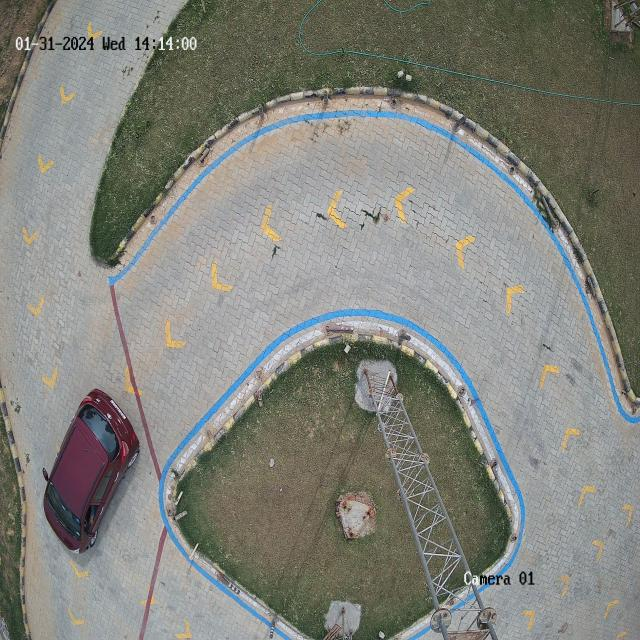car: (45, 389, 138, 553)
